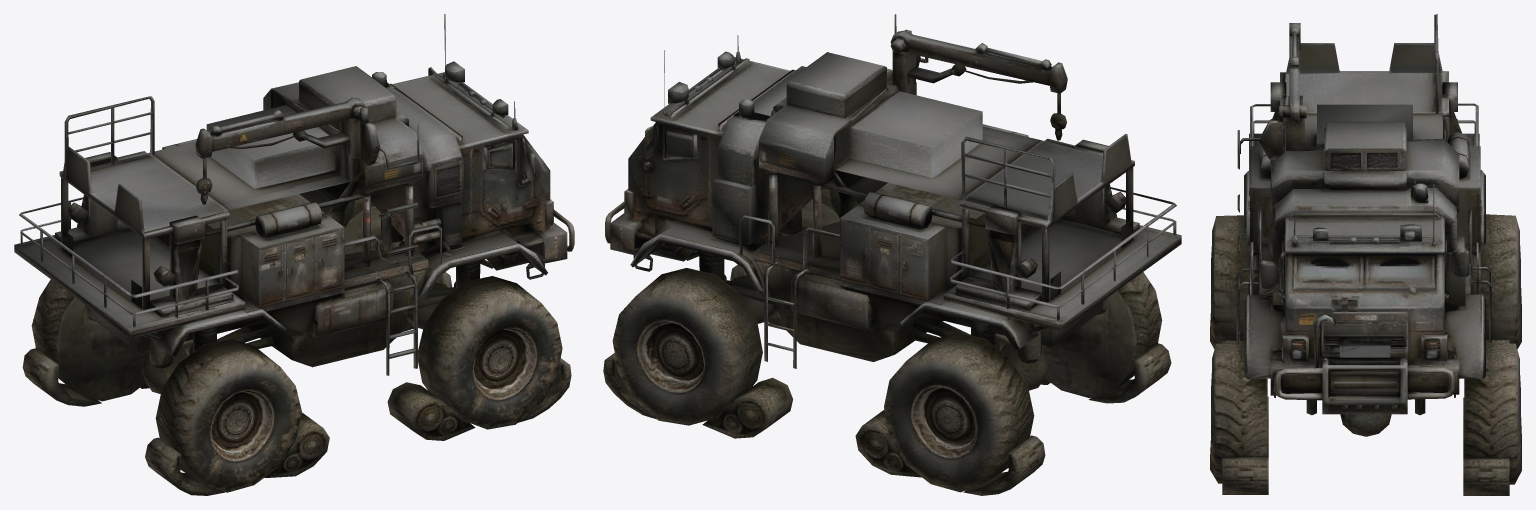
3 views of the same model, side by side, from view 1: azimuth 30°, elevation 25°; view 2: azimuth 150°, elevation 25°; view 3: azimuth 270°, elevation 25° (orthographic). The views are drawn at different scales.
Parts seen in each view (by area): view 1: tripo_node_bb63940d-59b3-4a33-8845-547686d8f4af; view 2: tripo_node_bb63940d-59b3-4a33-8845-547686d8f4af; view 3: tripo_node_bb63940d-59b3-4a33-8845-547686d8f4af.
Part boxes in pixels (box(x1,y1,x2,y2)): tripo_node_bb63940d-59b3-4a33-8845-547686d8f4af: box(14, 14, 574, 495); tripo_node_bb63940d-59b3-4a33-8845-547686d8f4af: box(603, 14, 1181, 495); tripo_node_bb63940d-59b3-4a33-8845-547686d8f4af: box(1210, 14, 1521, 495).
Size of the model in its own units: 0.998 by 0.6934 by 0.5918.
1 material, 1 textured.
